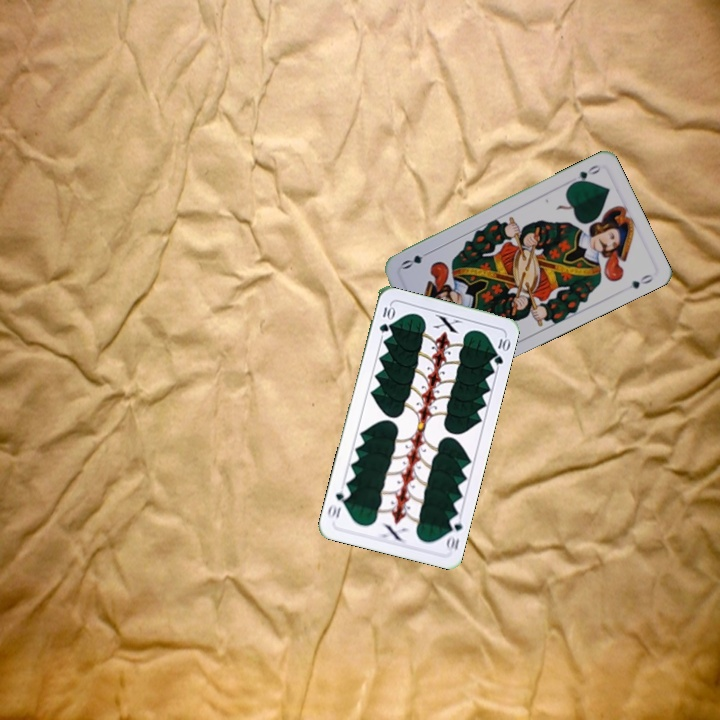G10: (442, 512, 465, 554), (375, 301, 396, 335)
GO: (567, 161, 604, 188)
